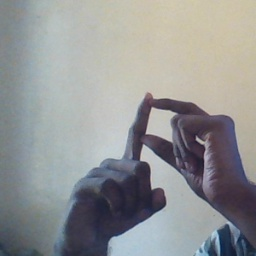D: (113, 85, 221, 217)
